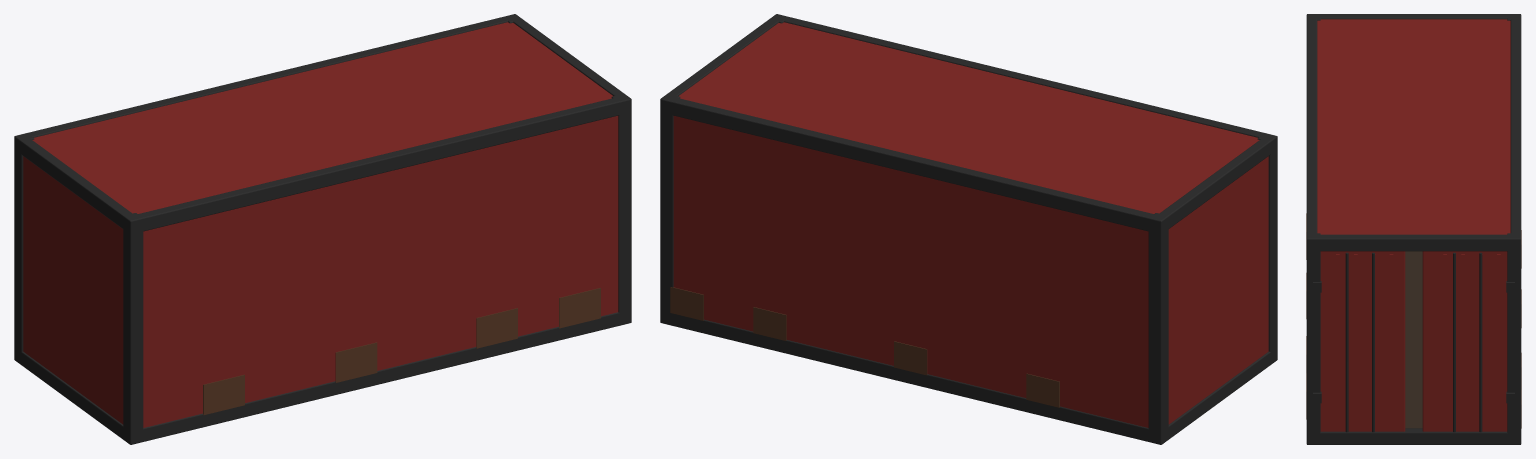
Rendered from container_red.glb.
3 views of the same model, side by side, from view 1: azimuth 30°, elevation 25°; view 2: azimuth 150°, elevation 25°; view 3: azimuth 270°, elevation 25° (orthographic). The views are drawn at different scales.
Visible parts, largest first — view 1: Cube.119; view 2: Cube.119; view 3: Cube.119.
Boxes of the visible parts, <box> form: Cube.119: <box>14,14,631,444</box>; Cube.119: <box>660,14,1277,444</box>; Cube.119: <box>1306,14,1521,444</box>.
Size of the model in its own units: 6.09 by 2.59 by 2.45.
